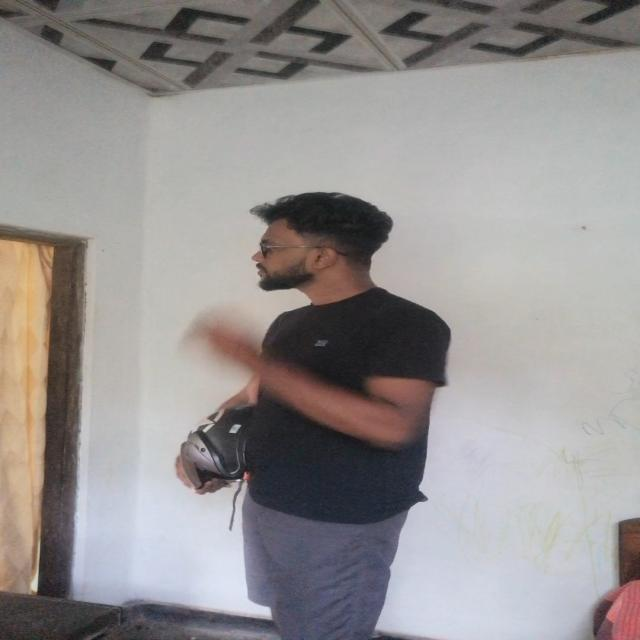Person: (175, 191, 456, 624)
